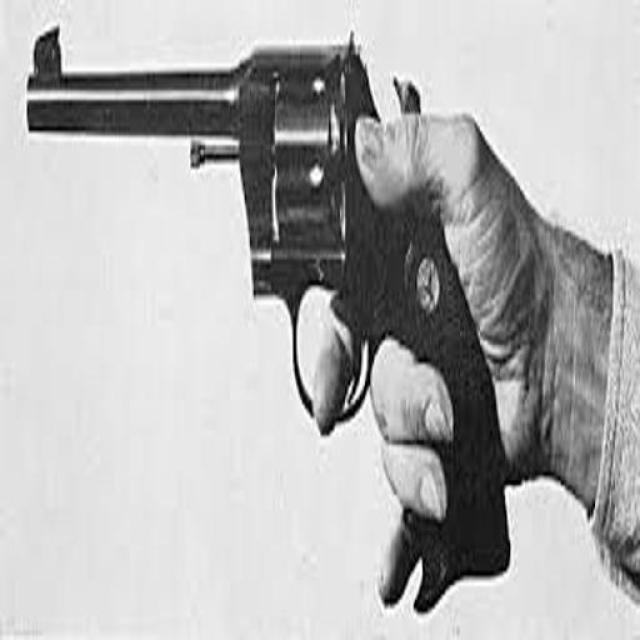pistol: (25, 13, 515, 594)
